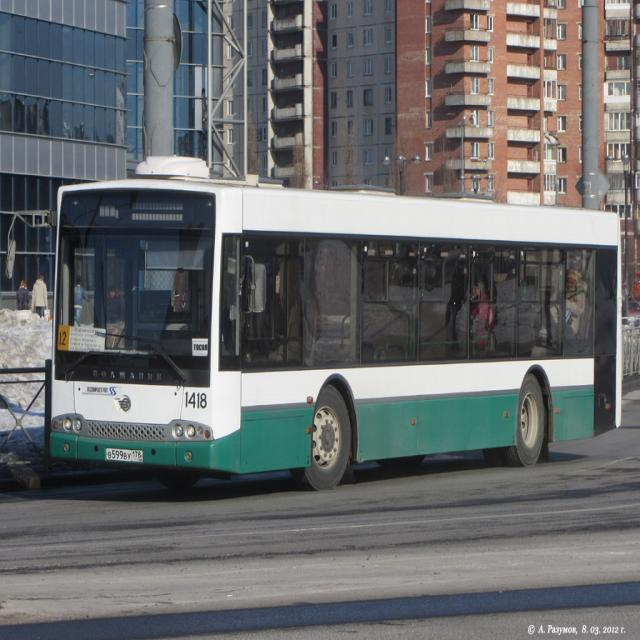number-of-bus: (58, 328, 69, 349)
